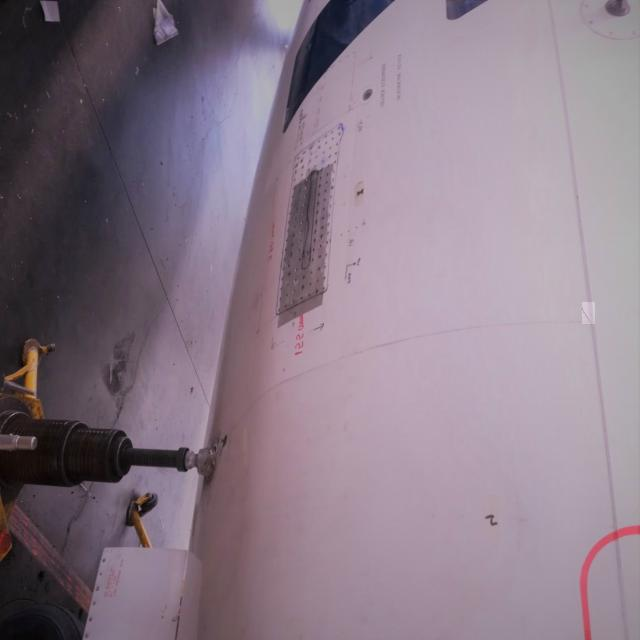crack: (583, 304, 596, 326)
